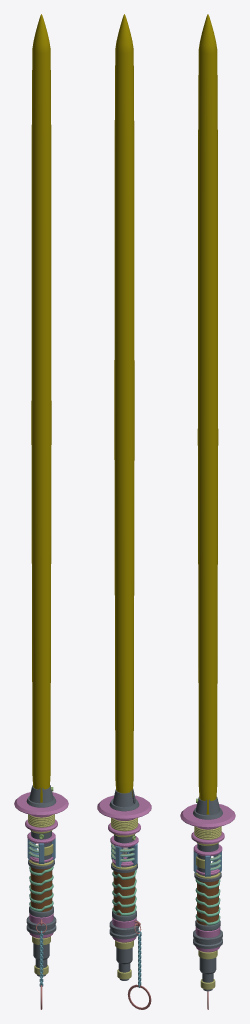
File: Lightsaber3full.fbx
3 views of the same model, side by side, from view 1: azimuth 90°, elevation 25°; view 2: azimuth 150°, elevation 25°; view 3: azimuth 270°, elevation 25° (orthographic).
Parts seen in each view (by area): view 1: polySurface230, polySurface166; view 2: polySurface230, polySurface166; view 3: polySurface230, polySurface166.
Part boxes in pixels (x1,y1,x2,y2): polySurface230: [31, 14, 51, 802]; polySurface166: [14, 785, 68, 1009]; polySurface230: [114, 14, 134, 796]; polySurface166: [97, 788, 151, 1009]; polySurface230: [197, 14, 218, 814]; polySurface166: [180, 796, 235, 1009].
Size of the model in its own units: 4.33 by 80.89 by 4.06.
